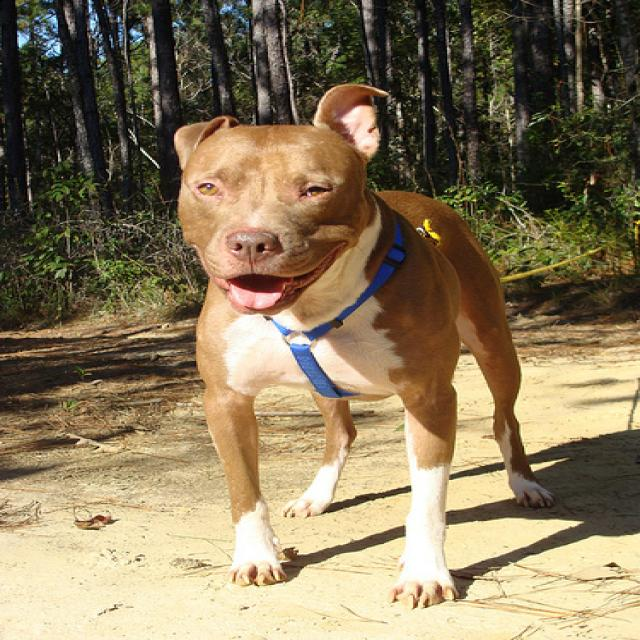dog-american_pit_bull_terrier: (162, 74, 563, 618)
